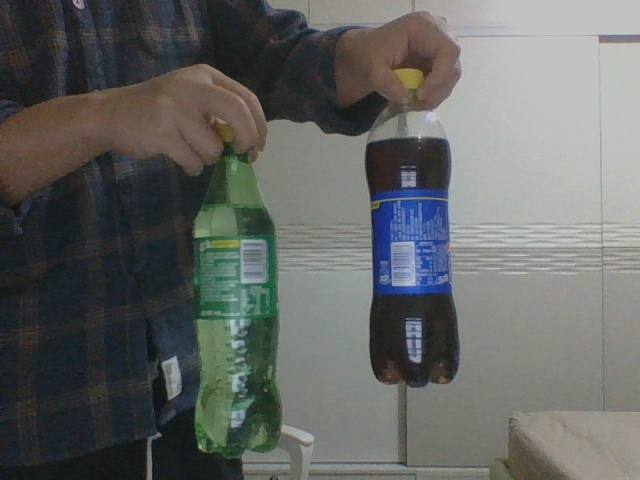Cola: (364, 67, 460, 388)
Sprite: (191, 123, 281, 460)
